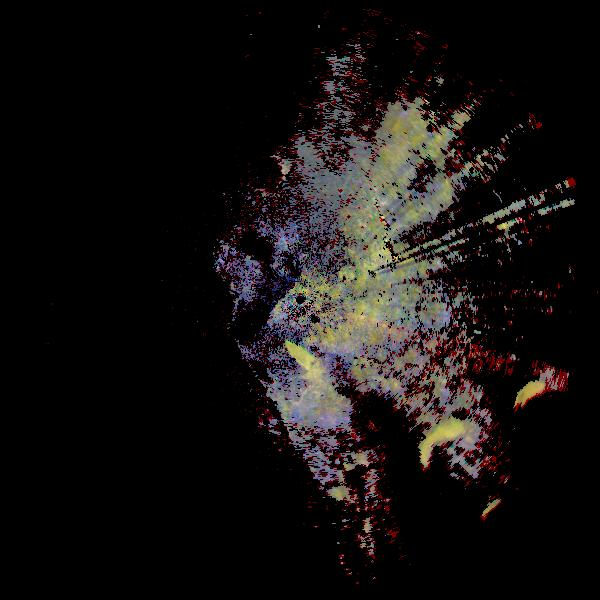roost: (413, 413, 509, 509), (503, 372, 596, 465), (243, 332, 333, 422), (475, 489, 538, 552), (239, 143, 296, 200)
